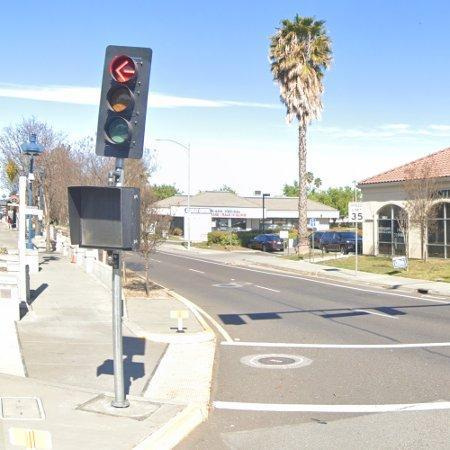traffic lights: (96, 45, 153, 159)
